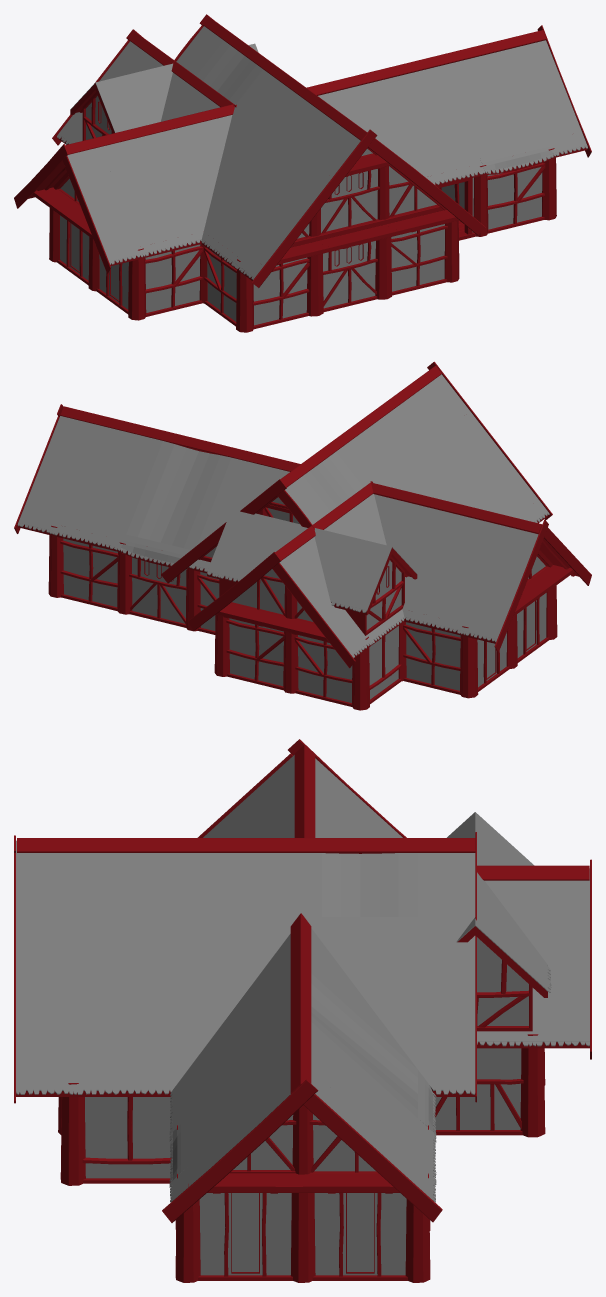
The model's file is SM_MH_01_House_04.fbx.
3 views of the same model, one above another, from view 1: azimuth 30°, elevation 25°; view 2: azimuth 150°, elevation 25°; view 3: azimuth 270°, elevation 25° (orthographic). The views are drawn at different scales.
Parts seen in each view (by area): view 1: SM_MH_01_House_04_LOD0, SM_MH_01_House_04_Windows; view 2: SM_MH_01_House_04_LOD0, SM_MH_01_House_04_Windows; view 3: SM_MH_01_House_04_LOD0, SM_MH_01_House_04_Windows.
Boxes of the visible parts, left/top/right/bottom form: SM_MH_01_House_04_LOD0: left=14, top=14, right=591, bottom=332; SM_MH_01_House_04_Windows: left=71, top=102, right=362, bottom=300; SM_MH_01_House_04_LOD0: left=14, top=361, right=591, bottom=710; SM_MH_01_House_04_Windows: left=145, top=561, right=534, bottom=677; SM_MH_01_House_04_LOD0: left=14, top=739, right=591, bottom=1282; SM_MH_01_House_04_Windows: left=232, top=1193, right=373, bottom=1271.
Size of what is drawn, in the model's own units: 2110 by 790 by 1510.
